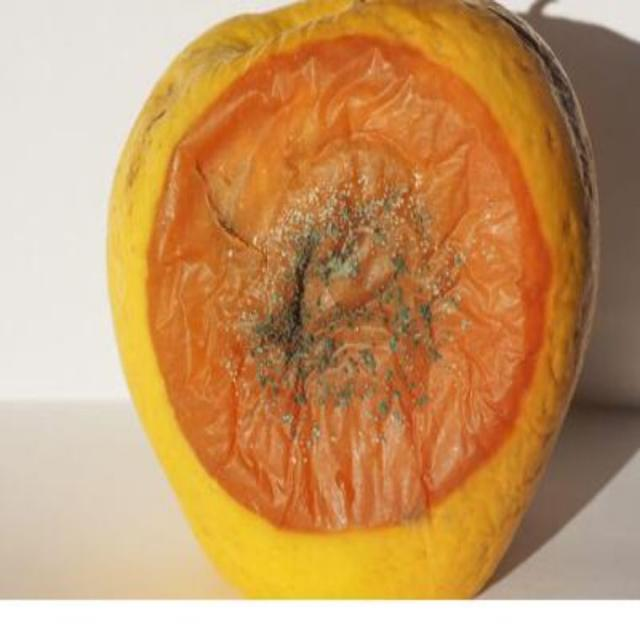Rotten Apple: (69, 10, 599, 588)
